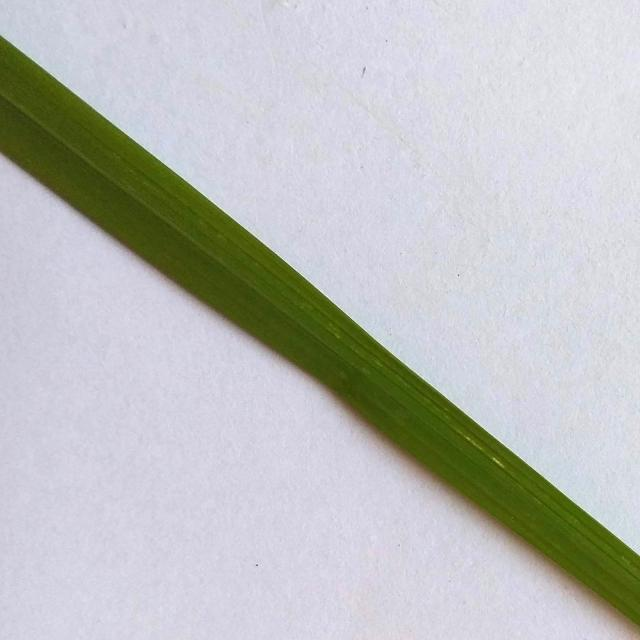healthy: (0, 31, 640, 630)
